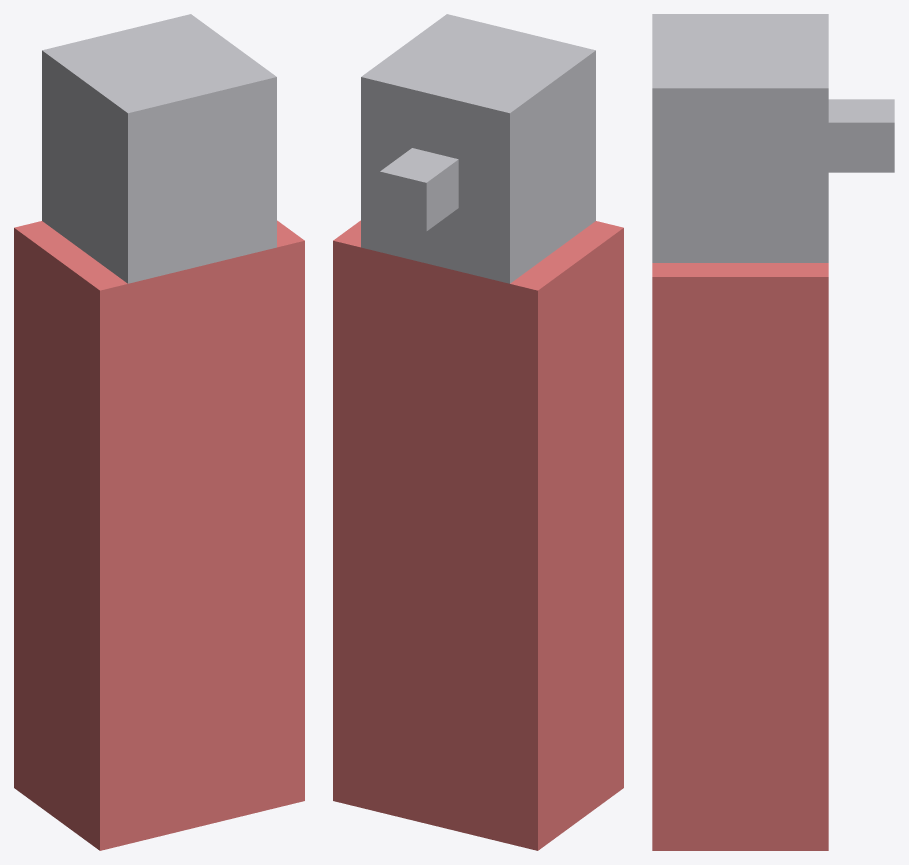
File: irregular_dummy.glb
3 views of the same model, side by side, from view 1: azimuth 30°, elevation 25°; view 2: azimuth 150°, elevation 25°; view 3: azimuth 270°, elevation 25° (orthographic). The views are drawn at different scales.
Parts seen in each view (by area): view 1: irregular_dummy; view 2: irregular_dummy; view 3: irregular_dummy.
Part boxes in pixels (x1=…): irregular_dummy: x1=14, y1=14, x2=304, y2=850; irregular_dummy: x1=333, y1=14, x2=623, y2=850; irregular_dummy: x1=652, y1=14, x2=894, y2=850.
Bounding box in the file's own units: 0.44 × 1.5 × 0.44.
